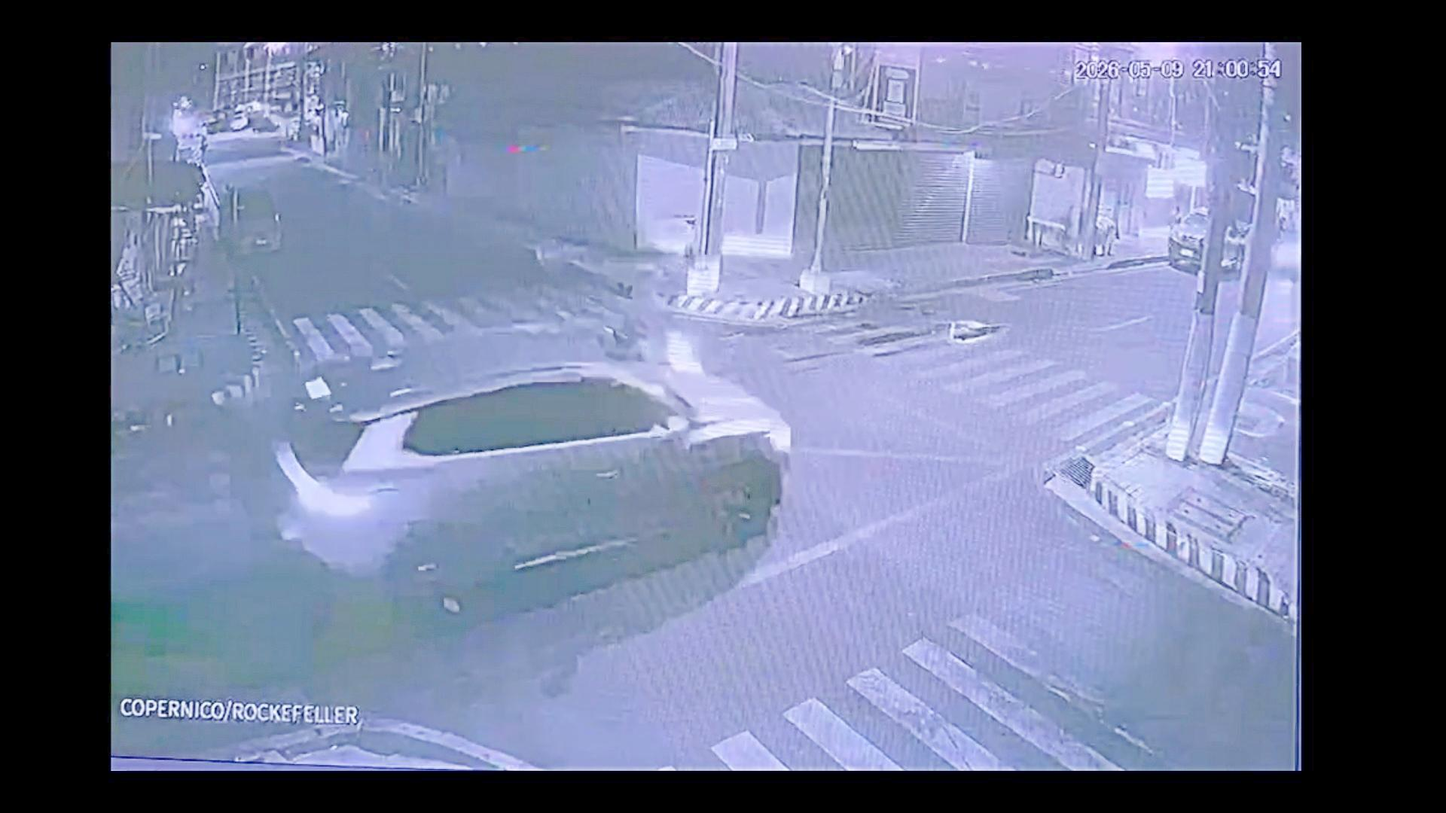Car: (295, 358, 785, 564)
Minor Accident: (296, 315, 787, 571)
Motor: (610, 314, 708, 373)
